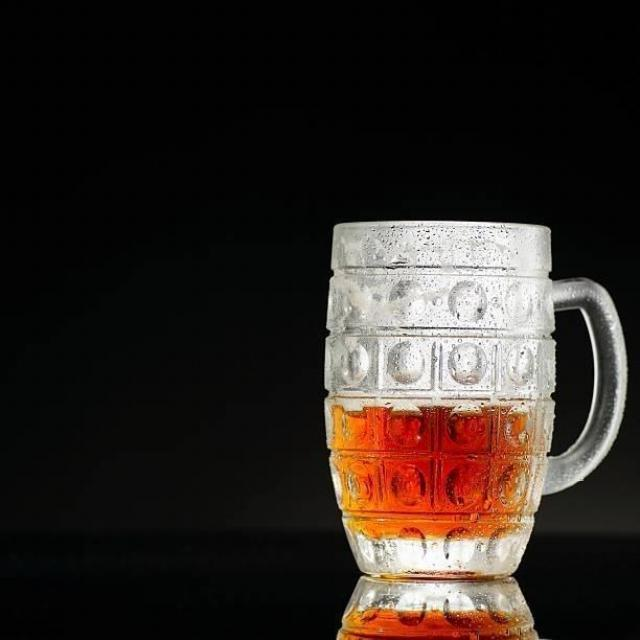glass-mug: (320, 216, 632, 578)
